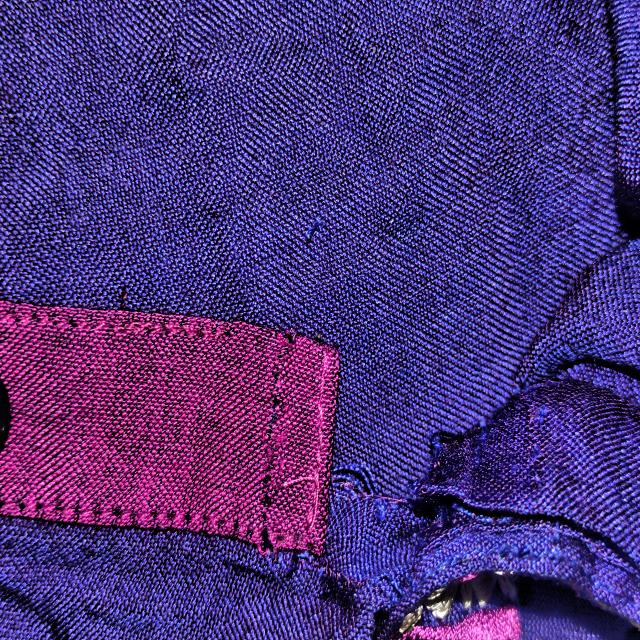seam: (325, 384, 494, 601)
